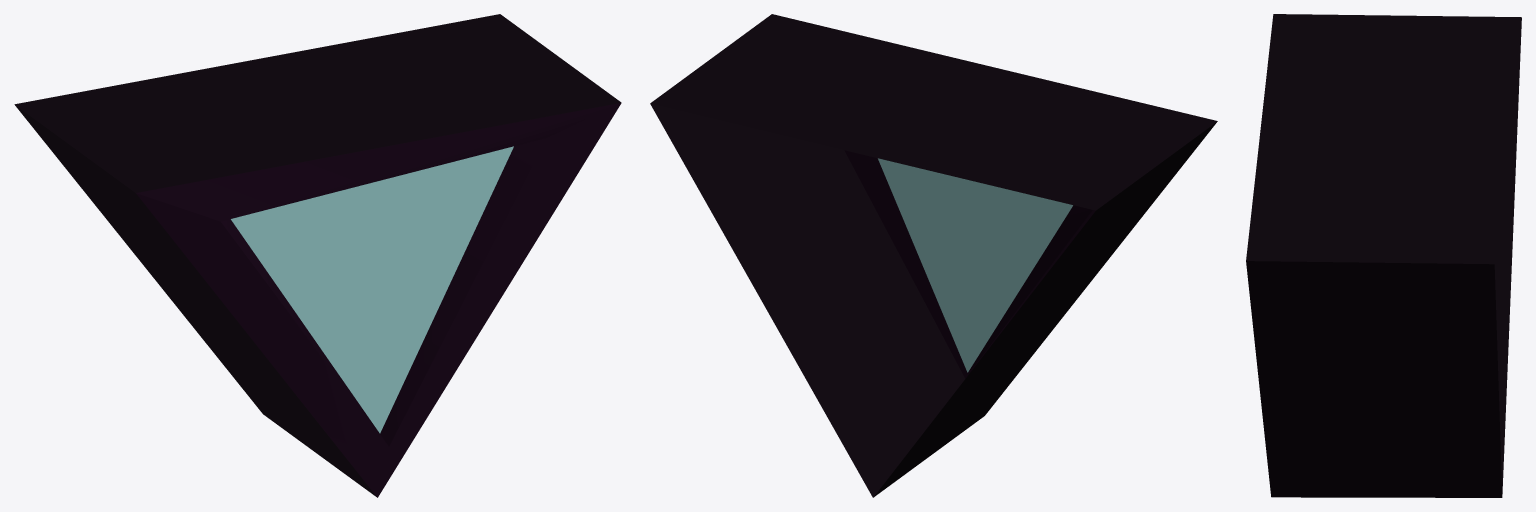
The model's file is c_house_window_triangle_aa.fbx.
3 views of the same model, side by side, from view 1: azimuth 30°, elevation 25°; view 2: azimuth 150°, elevation 25°; view 3: azimuth 270°, elevation 25° (orthographic). The views are drawn at different scales.
Visible parts, largest first — view 1: c_house_window_triangle_aa; view 2: c_house_window_triangle_aa; view 3: c_house_window_triangle_aa.
Part boxes in pixels (x1,y1,x2,y2): c_house_window_triangle_aa: [14, 14, 621, 497]; c_house_window_triangle_aa: [650, 14, 1217, 497]; c_house_window_triangle_aa: [1246, 14, 1521, 497].
Size of the model in its own units: 1.76 by 1.29 by 0.8807.
